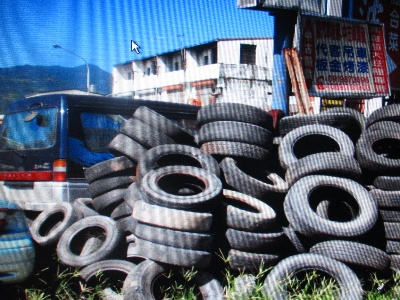tire: (283, 173, 379, 238), (140, 164, 223, 209), (57, 214, 122, 268), (131, 198, 214, 231), (306, 240, 392, 269), (214, 190, 277, 229), (135, 235, 214, 266), (135, 218, 213, 248), (28, 199, 74, 246), (197, 119, 274, 146), (285, 152, 364, 178), (195, 104, 276, 129), (279, 111, 354, 135), (200, 140, 271, 162), (81, 154, 136, 178), (87, 173, 139, 196)
